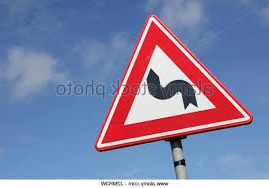Double_bend_left: (95, 13, 260, 153)
